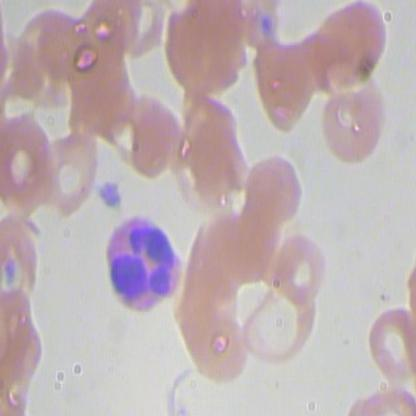Platelets: (91, 175, 124, 217)
RBC: (294, 1, 386, 94), (160, 1, 245, 100), (239, 273, 322, 373), (170, 288, 252, 387), (316, 70, 389, 170), (246, 38, 315, 142), (1, 107, 57, 231), (117, 90, 181, 183), (183, 110, 247, 203), (181, 205, 245, 297), (38, 123, 101, 216), (27, 1, 90, 94), (240, 148, 312, 228), (99, 1, 165, 68), (275, 230, 330, 309), (361, 301, 415, 380), (1, 209, 44, 304)
WBC: (101, 215, 190, 315)
